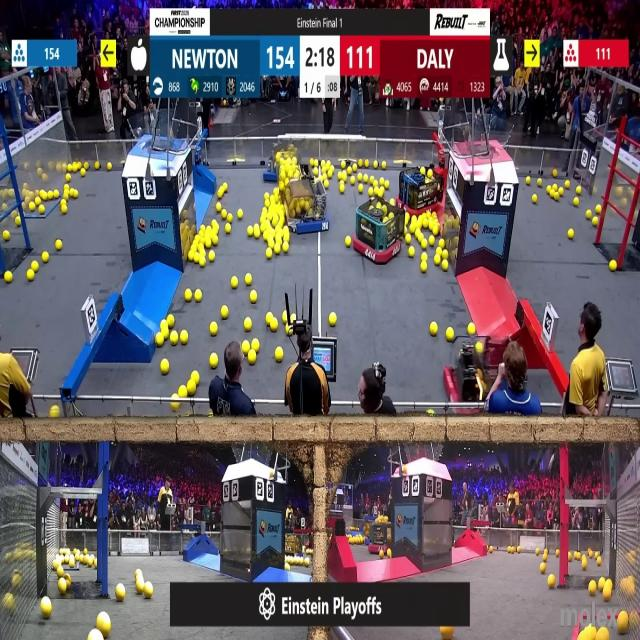ball_ground: (41, 597, 52, 618), (115, 585, 125, 602), (144, 583, 154, 600), (276, 347, 284, 362), (60, 580, 68, 595), (598, 628, 608, 640), (180, 332, 188, 346), (210, 353, 218, 367), (171, 332, 179, 346), (187, 382, 195, 396), (329, 312, 336, 327), (210, 321, 218, 334), (220, 306, 228, 319), (162, 360, 170, 373), (589, 582, 597, 595), (248, 351, 256, 364), (242, 341, 250, 354), (467, 322, 475, 335), (155, 335, 163, 348), (183, 382, 191, 395), (429, 321, 436, 335), (604, 588, 611, 602), (446, 328, 454, 340), (194, 289, 202, 301), (136, 583, 144, 595), (50, 407, 58, 419), (4, 273, 12, 284), (168, 316, 175, 328), (250, 290, 257, 302), (42, 251, 49, 263), (208, 251, 216, 261), (28, 271, 36, 281), (190, 370, 198, 380), (471, 326, 477, 339), (243, 274, 250, 285), (421, 263, 428, 274), (232, 277, 238, 289), (244, 320, 250, 332), (185, 288, 191, 300), (267, 312, 273, 324), (609, 262, 616, 272), (72, 189, 79, 199), (187, 251, 194, 261), (289, 314, 296, 324), (206, 238, 213, 248), (409, 246, 415, 257), (57, 240, 63, 251), (346, 237, 352, 248), (276, 244, 282, 255), (268, 248, 274, 259), (252, 341, 258, 352), (231, 279, 237, 290), (272, 320, 278, 331), (172, 401, 180, 409), (433, 255, 440, 264), (200, 258, 207, 267), (539, 563, 546, 572), (32, 262, 38, 272), (224, 222, 230, 232), (593, 216, 599, 226), (59, 566, 65, 576), (443, 249, 449, 259), (4, 232, 10, 242), (416, 232, 422, 242), (573, 198, 579, 208), (58, 238, 64, 248), (326, 169, 332, 179), (422, 238, 428, 248), (350, 175, 356, 185), (283, 312, 288, 324), (421, 252, 428, 260), (53, 190, 60, 198), (357, 184, 364, 192), (525, 177, 532, 185), (444, 261, 449, 272), (39, 205, 45, 214), (14, 217, 20, 226), (64, 189, 70, 198), (264, 233, 270, 242), (568, 230, 573, 240), (284, 243, 289, 253), (248, 228, 253, 238), (341, 183, 346, 193), (194, 252, 199, 262), (253, 232, 259, 240), (66, 174, 72, 182), (380, 552, 386, 560), (62, 206, 68, 214), (541, 554, 547, 562), (573, 553, 579, 561), (554, 190, 560, 198), (422, 219, 428, 227), (587, 210, 592, 219), (48, 190, 53, 199), (597, 580, 602, 589), (284, 234, 289, 243), (238, 208, 242, 219), (596, 206, 602, 213), (545, 185, 551, 192), (435, 248, 441, 255), (441, 240, 446, 248), (216, 204, 221, 212), (553, 170, 558, 178), (532, 194, 537, 202), (306, 558, 310, 568), (83, 163, 88, 171), (363, 174, 368, 182), (223, 182, 228, 190), (388, 550, 392, 559), (568, 553, 572, 562), (80, 170, 85, 177), (428, 410, 433, 417), (95, 162, 100, 169), (538, 178, 542, 186), (576, 186, 580, 194), (218, 189, 222, 197), (324, 180, 328, 188), (381, 178, 385, 186), (489, 545, 494, 551), (65, 184, 70, 190), (507, 545, 512, 551), (108, 165, 112, 172), (556, 550, 560, 556), (553, 184, 557, 190), (210, 412, 213, 418), (584, 560, 586, 568), (566, 182, 569, 187)
goal: (460, 117, 515, 158), (130, 118, 186, 152)
robot_blue: (285, 183, 327, 236), (264, 138, 297, 186), (366, 516, 394, 554), (1, 188, 16, 222), (284, 532, 304, 556)
robot_red: (448, 329, 506, 416), (356, 198, 404, 266), (400, 164, 444, 213)
